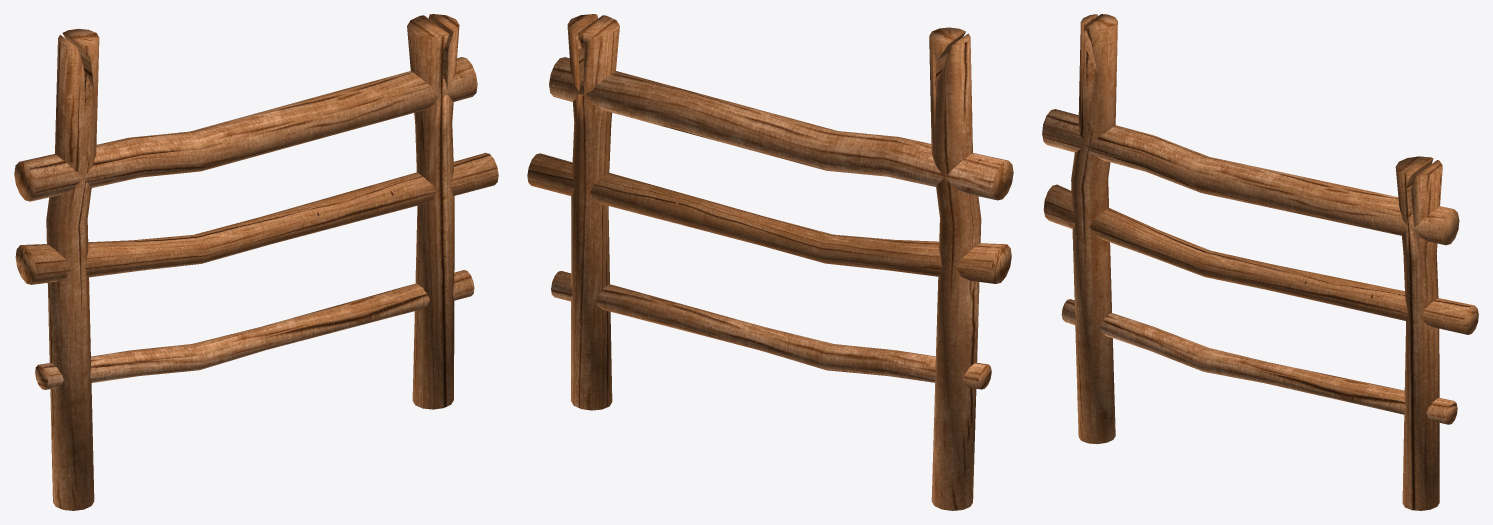
The model's file is ZaborUni.fbx.
3 renders of one model, left to right at view 1: azimuth 30°, elevation 25°; view 2: azimuth 150°, elevation 25°; view 3: azimuth 330°, elevation 25°, orthographic. The views are drawn at different scales.
Parts seen in each view (by area): view 1: Cylinder.012; view 2: Cylinder.012; view 3: Cylinder.012.
Part boxes in pixels (x1,y1,x2,y2): Cylinder.012: (14, 14, 498, 510); Cylinder.012: (527, 14, 1013, 510); Cylinder.012: (1042, 14, 1478, 510).
Bounding box in the file's own units: 293 × 279 × 28.55.
Materials: 1 (1 with a texture image).
